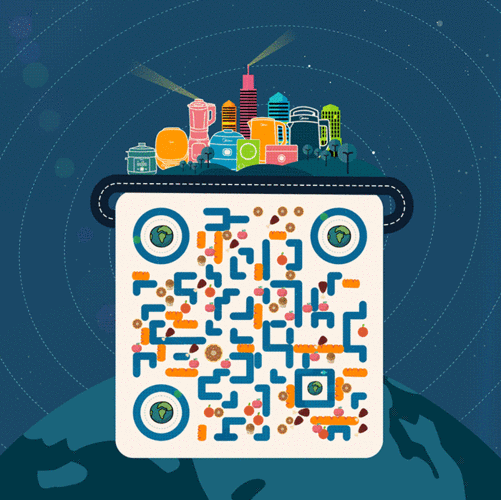QRCode: (129, 197, 377, 450)
